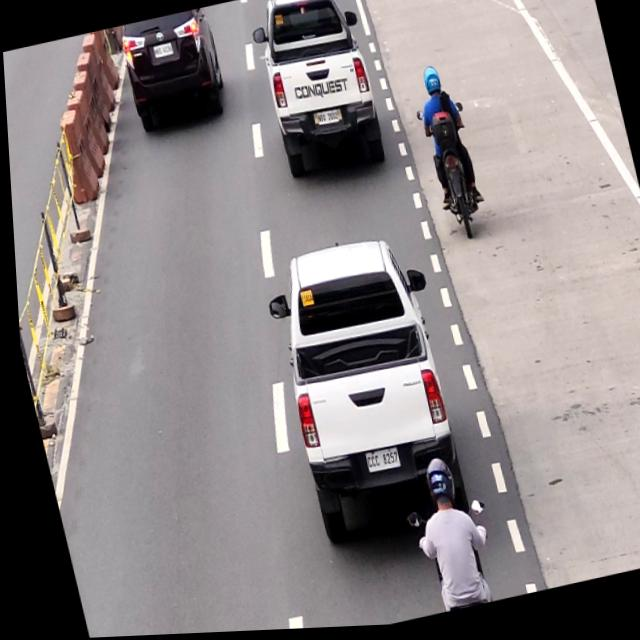Car: (256, 234, 458, 541), (248, 0, 384, 177), (115, 8, 228, 134)
License-Plate: (357, 446, 396, 481), (313, 108, 339, 130), (148, 43, 174, 62)
Motorcycle: (396, 458, 490, 618), (411, 66, 489, 256)
